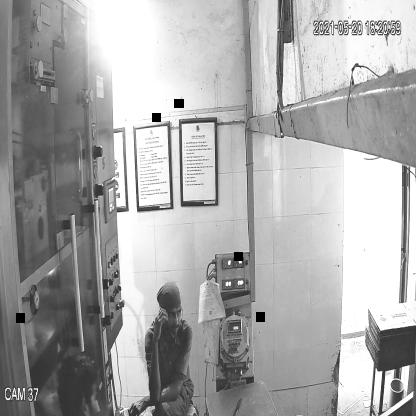goggles: (161, 306, 185, 326)
